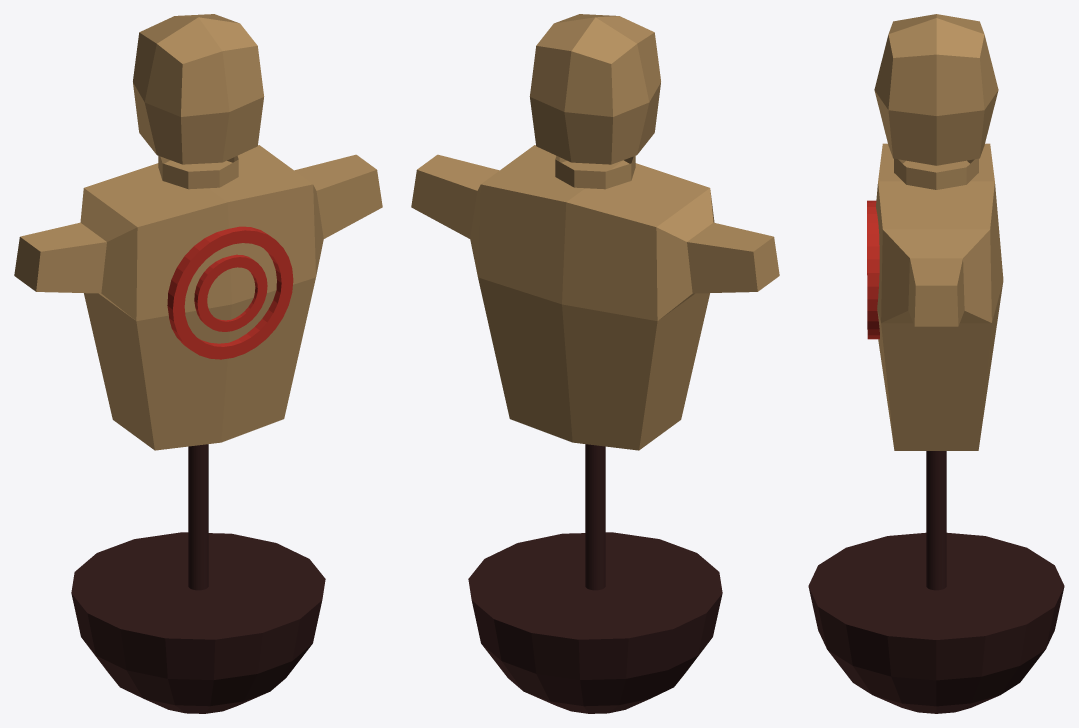
File: target_dummy.gltf
3 renders of one model, left to right at view 1: azimuth 30°, elevation 25°; view 2: azimuth 150°, elevation 25°; view 3: azimuth 270°, elevation 25°, orthographic.
Parts seen in each view (by area): view 1: Cube, Sphere, Circle, Cylinder; view 2: Cube, Sphere, Cylinder; view 3: Cube, Sphere, Cylinder, Circle.
Boxes of the visible parts, x1,y1,x2,y2 form: Cube: (14, 14, 382, 450); Sphere: (71, 532, 325, 713); Circle: (167, 226, 293, 359); Cylinder: (188, 444, 208, 590); Cube: (411, 14, 779, 450); Sphere: (468, 532, 722, 713); Cylinder: (585, 444, 605, 590); Cube: (874, 14, 1003, 450); Sphere: (808, 532, 1064, 713); Cylinder: (926, 451, 946, 590); Circle: (867, 200, 879, 339).
Bounding box in the file's own units: 1.27 × 2.4 × 0.815.
